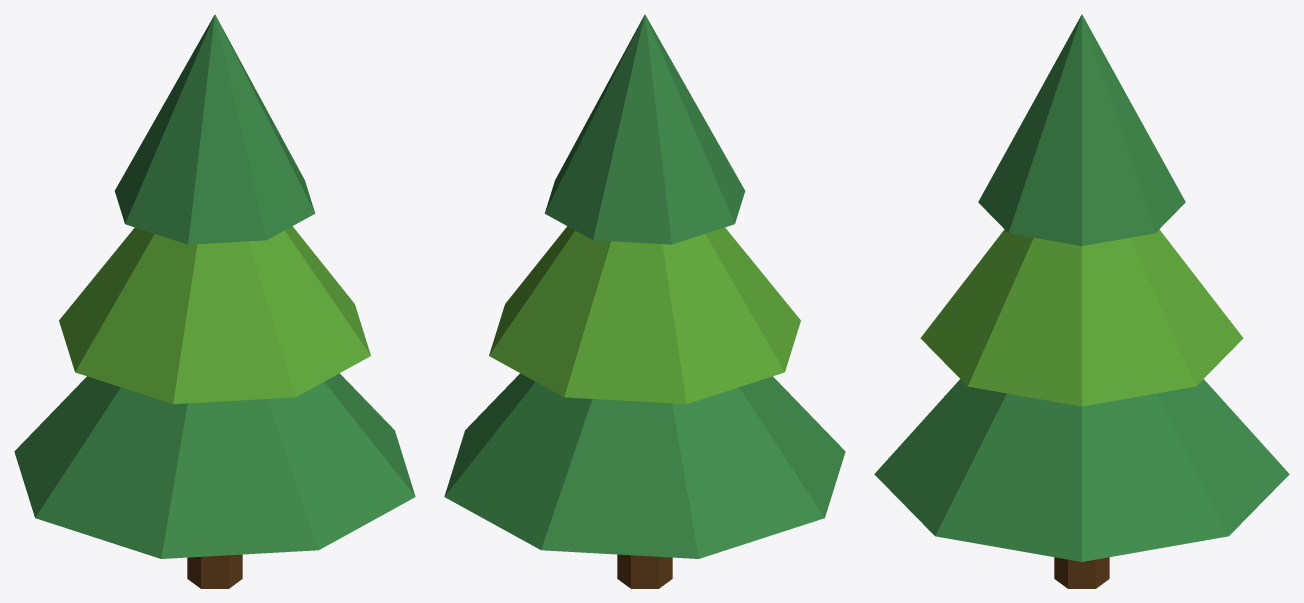
The model's file is sns_tree_pine.glb.
3 views of the same model, side by side, from view 1: azimuth 30°, elevation 25°; view 2: azimuth 150°, elevation 25°; view 3: azimuth 270°, elevation 25° (orthographic).
Visible parts, largest first — view 1: sns_tree_pine; view 2: sns_tree_pine; view 3: sns_tree_pine.
Part boxes in pixels (bbox=[...]): sns_tree_pine: bbox=[14, 14, 415, 588]; sns_tree_pine: bbox=[444, 14, 845, 588]; sns_tree_pine: bbox=[874, 14, 1289, 588].
Size of the model in its own units: 1.8 by 2.7 by 1.8.
